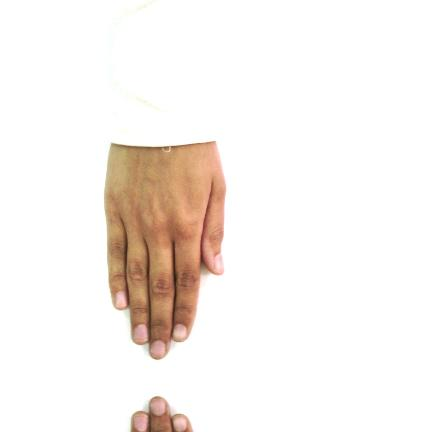Nail: (149, 340, 166, 360), (149, 396, 166, 416), (133, 324, 148, 345), (133, 411, 148, 432), (172, 324, 187, 342), (172, 414, 187, 432), (114, 291, 128, 308), (214, 252, 224, 274)
